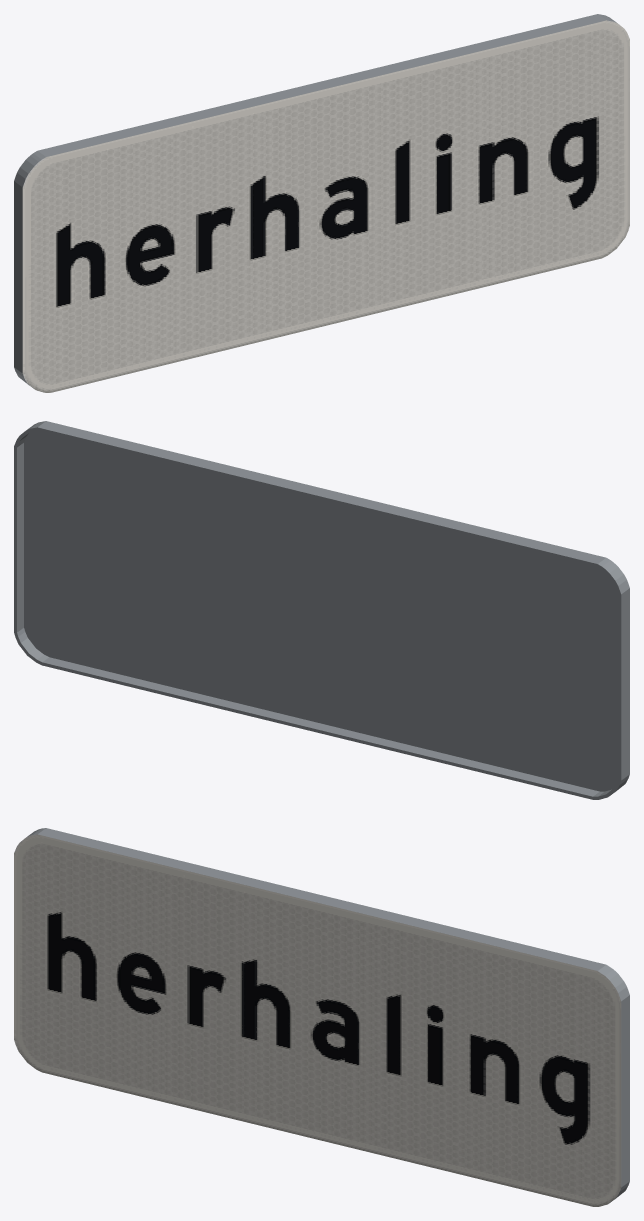
3 renders of one model, top to bottom at view 1: azimuth 30°, elevation 25°; view 2: azimuth 150°, elevation 25°; view 3: azimuth 330°, elevation 25°, orthographic.
Visible parts, largest first — view 1: cat_a69cc4b8a24a48ef; view 2: cat_a69cc4b8a24a48ef; view 3: cat_a69cc4b8a24a48ef.
Part boxes in pixels (left/top/right/bottom): cat_a69cc4b8a24a48ef: left=14, top=14, right=629, bottom=392; cat_a69cc4b8a24a48ef: left=14, top=421, right=629, bottom=799; cat_a69cc4b8a24a48ef: left=14, top=828, right=629, bottom=1206.
Size of the model in its own units: 0.6 by 0.015 by 0.2237.
2 materials, 1 textured.
